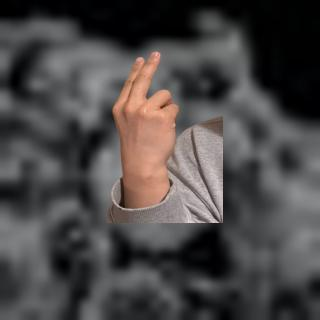DHAVE: (107, 48, 185, 174)
